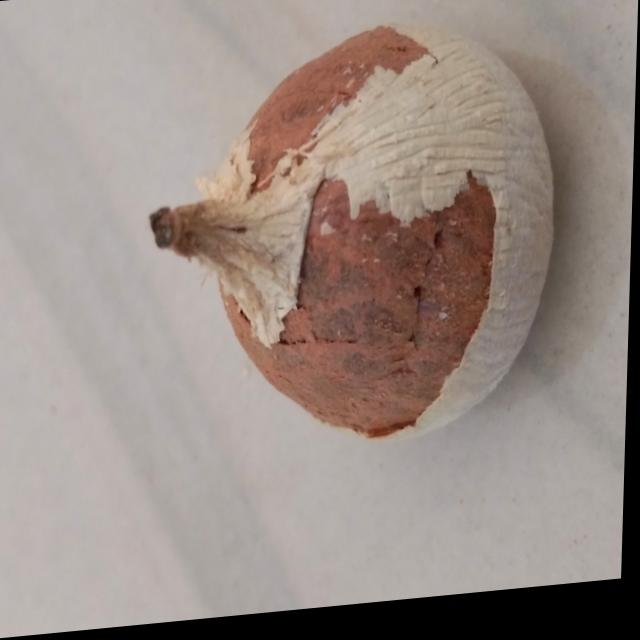phatora: (125, 0, 575, 492)
